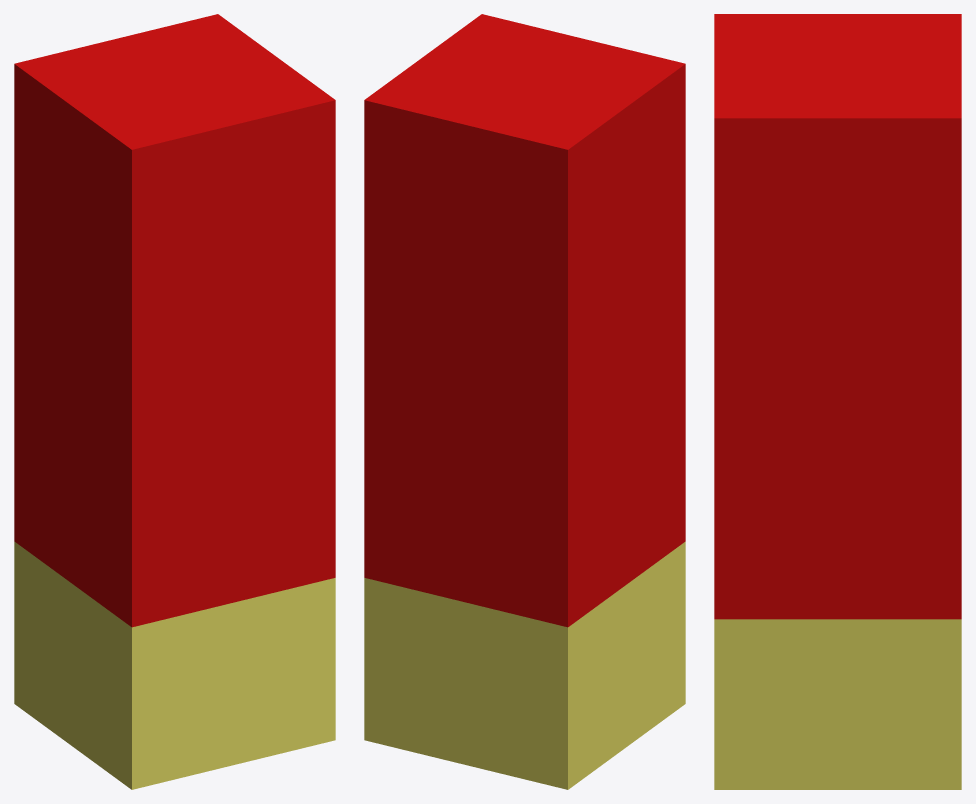
The model's file is Ammo_Shotgun.FBX.
3 views of the same model, side by side, from view 1: azimuth 30°, elevation 25°; view 2: azimuth 150°, elevation 25°; view 3: azimuth 270°, elevation 25° (orthographic). The views are drawn at different scales.
Visible parts, largest first — view 1: Ammo_SG; view 2: Ammo_SG; view 3: Ammo_SG.
Boxes of the visible parts, x1,y1,x2,y2 form: Ammo_SG: (14,14,335,789); Ammo_SG: (364,14,685,789); Ammo_SG: (714,14,961,789).
Size of the model in its own units: 5 by 5 by 15.
